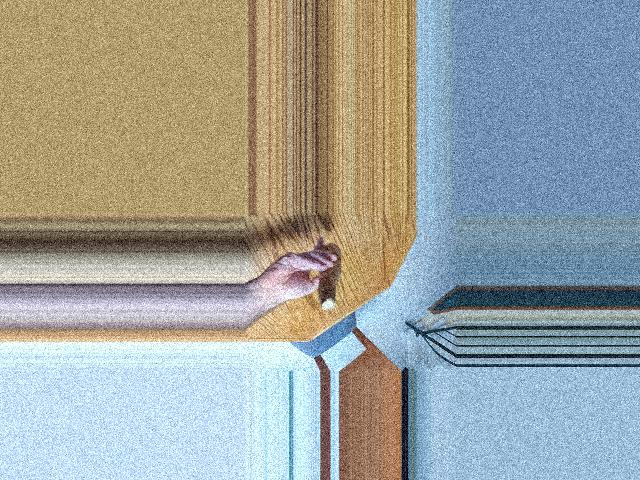sweet_potato: (313, 249, 344, 305)
